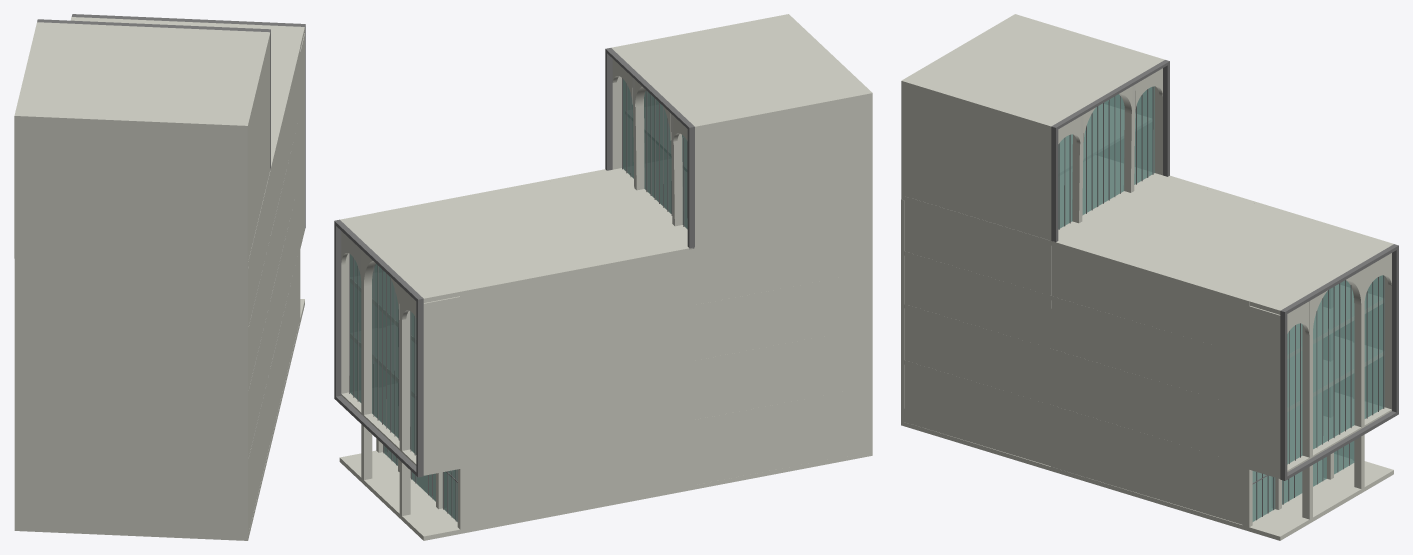
3 renders of one model, left to right at view 1: azimuth 30°, elevation 25°; view 2: azimuth 150°, elevation 25°; view 3: azimuth 270°, elevation 25°, orthographic. The views are drawn at different scales.
Parts seen in each view (by area): view 1: SketchUp.848, SketchUp.843, SketchUp.851, SketchUp.847, SketchUp.850, SketchUp.849, SketchUp.885, SketchUp.839, SketchUp.869, SketchUp.844, SketchUp.856, SketchUp.794; view 2: SketchUp.843, SketchUp.845, SketchUp.846, SketchUp.848, SketchUp.887, SketchUp.868, SketchUp.817, SketchUp.850, SketchUp.794, SketchUp.885, SketchUp.839, SketchUp.861 (+9 smaller); view 3: SketchUp.843, SketchUp.851, SketchUp.847, SketchUp.887, SketchUp.848, SketchUp.817, SketchUp.869, SketchUp.850, SketchUp.794, SketchUp.849, SketchUp.885, SketchUp.839 (+11 smaller).
Part boxes in pixels (box(x1,y1,x2,y2)): SketchUp.848: box(14, 259, 304, 540); SketchUp.843: box(14, 17, 304, 268); SketchUp.851: box(270, 50, 299, 440); SketchUp.847: box(248, 170, 270, 531); SketchUp.850: box(15, 226, 304, 466); SketchUp.849: box(15, 116, 299, 334); SketchUp.885: box(71, 14, 305, 228); SketchUp.839: box(37, 19, 270, 169); SketchUp.869: box(300, 33, 304, 243); SketchUp.844: box(14, 112, 268, 201); SketchUp.856: box(292, 46, 300, 321); SketchUp.794: box(248, 179, 299, 395); SketchUp.843: box(340, 14, 872, 302); SketchUp.845: box(457, 246, 694, 529); SketchUp.846: box(695, 219, 868, 484); SketchUp.848: box(339, 218, 872, 540); SketchUp.887: box(350, 254, 416, 454); SketchUp.868: box(423, 296, 460, 471); SketchUp.817: box(623, 79, 687, 229); SketchUp.850: box(341, 384, 872, 475); SketchUp.794: box(350, 325, 868, 414); SketchUp.885: box(334, 219, 423, 477); SketchUp.839: box(605, 48, 694, 249); SketchUp.861: box(399, 274, 410, 515); SketchUp.843: box(901, 14, 1393, 314); SketchUp.851: box(1051, 241, 1243, 524); SketchUp.847: box(904, 196, 1051, 466); SketchUp.887: box(1287, 275, 1384, 464); SketchUp.848: box(901, 199, 1393, 540); SketchUp.817: box(1058, 86, 1154, 229); SketchUp.869: box(1249, 306, 1280, 474); SketchUp.850: box(903, 360, 1391, 478); SketchUp.794: box(904, 304, 1382, 420); SketchUp.849: box(902, 251, 1382, 367); SketchUp.885: box(1280, 244, 1398, 480); SketchUp.839: box(1051, 60, 1169, 242).
Size of the model in its own units: 2.45 by 2.14 by 2.8.
